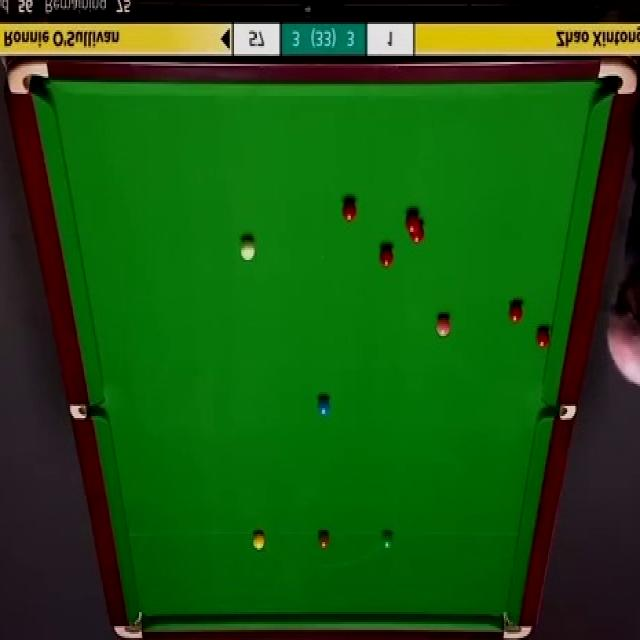pocket: (595, 57, 638, 95), (8, 60, 50, 95), (502, 609, 531, 640), (113, 612, 143, 640), (66, 402, 102, 422), (540, 405, 574, 420)
